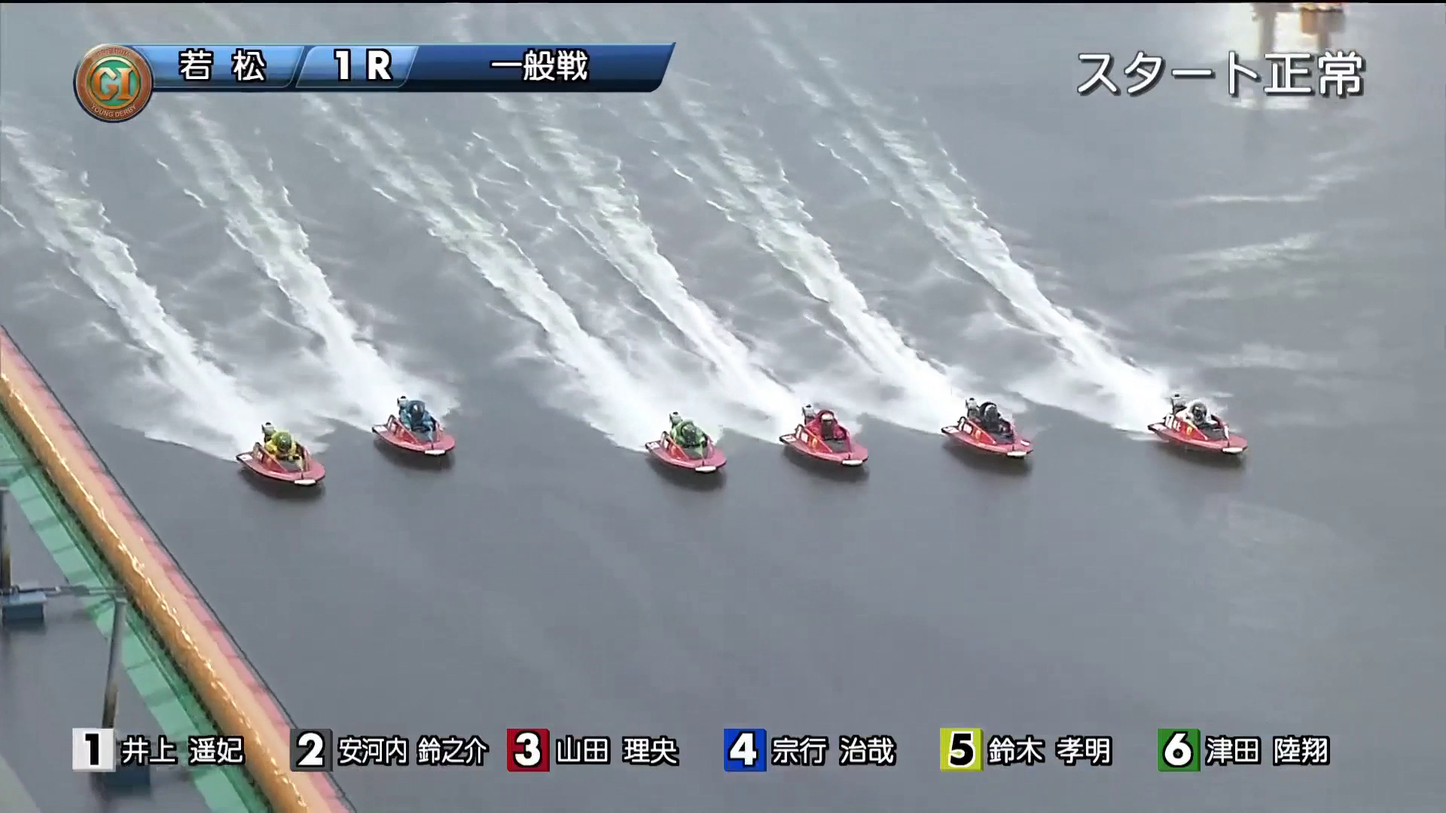１号艇: (1162, 395, 1253, 438)
２号艇: (953, 404, 1046, 444)
３号艇: (787, 425, 883, 467)
４号艇: (633, 419, 739, 464)
５号艇: (349, 390, 469, 445)
６号艇: (246, 431, 345, 488)
